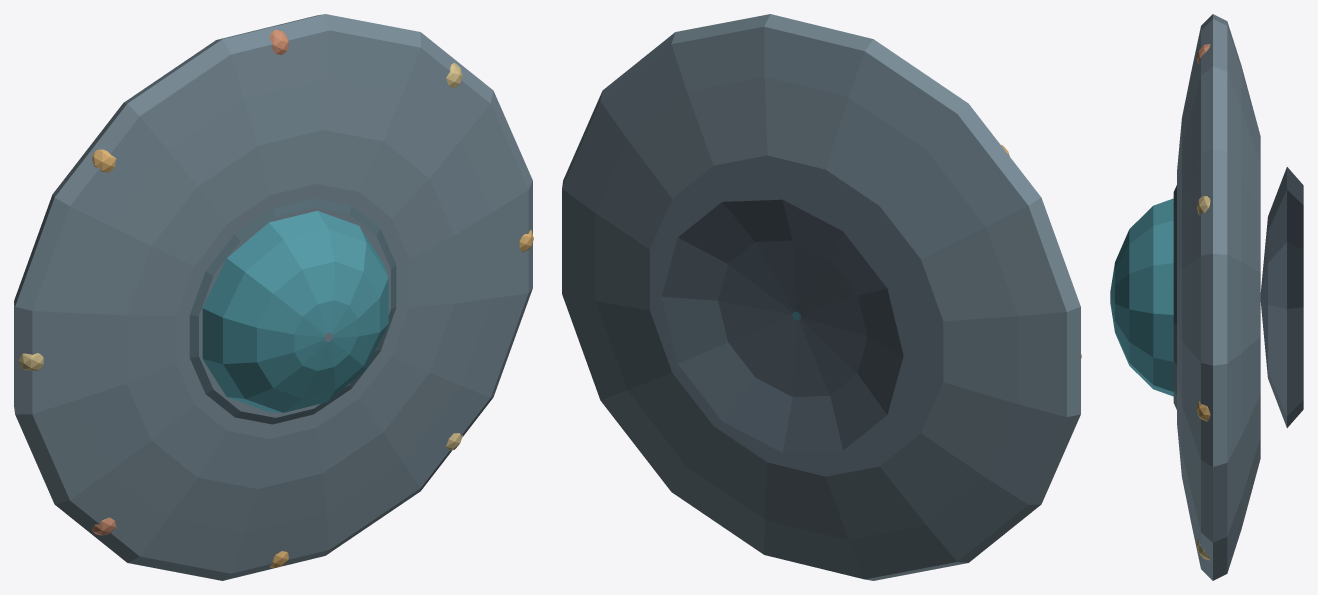
Rendered from ufo.glb.
3 renders of one model, left to right at view 1: azimuth 30°, elevation 25°; view 2: azimuth 150°, elevation 25°; view 3: azimuth 270°, elevation 25°, orthographic. The views are drawn at different scales.
Parts seen in each view (by area): view 1: Saucer_Hull, Recessed_Cockpit_Dome, Cockpit_Recess_Rim; view 2: Saucer_Hull, Underside; view 3: Saucer_Hull, Recessed_Cockpit_Dome, Underside, Cockpit_Recess_Rim.
Boxes of the visible parts, left/top/right/bottom form: Saucer_Hull: left=14, top=14, right=532, bottom=580; Recessed_Cockpit_Dome: left=202, top=210, right=388, bottom=412; Cockpit_Recess_Rim: left=189, top=198, right=396, bottom=424; Saucer_Hull: left=562, top=14, right=1080, bottom=580; Underside: left=661, top=199, right=903, bottom=452; Saucer_Hull: left=1177, top=14, right=1260, bottom=580; Recessed_Cockpit_Dome: left=1110, top=198, right=1173, bottom=396; Underside: left=1260, top=167, right=1303, bottom=427; Cockpit_Recess_Rim: left=1173, top=185, right=1176, bottom=409.
Size of the model in its own units: 2.35 by 2.35 by 0.81.
